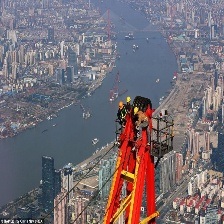helmet: (134, 107, 139, 116), (126, 95, 131, 103), (119, 102, 124, 110)
person: (134, 106, 151, 149), (117, 102, 128, 134)
